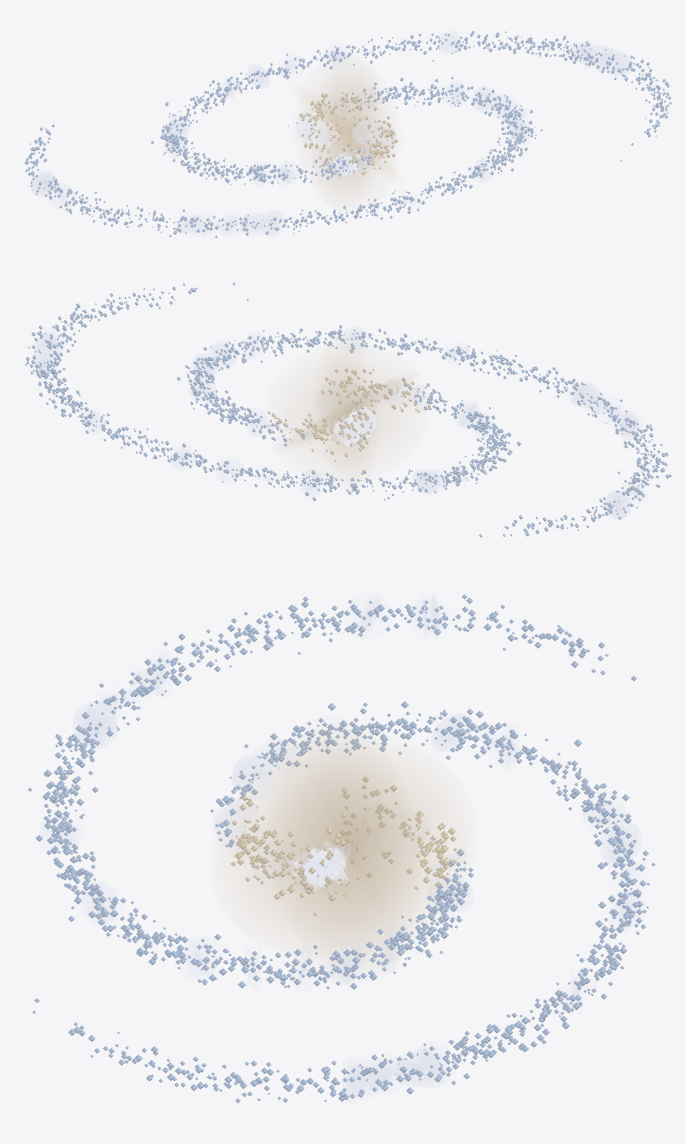
3 renders of one model, top to bottom at view 1: azimuth 30°, elevation 25°; view 2: azimuth 150°, elevation 25°; view 3: azimuth 270°, elevation 25°, orthographic. The views are drawn at different scales.
Bounding box in the file's own units: 7.23 × 1.78 × 3.97.
